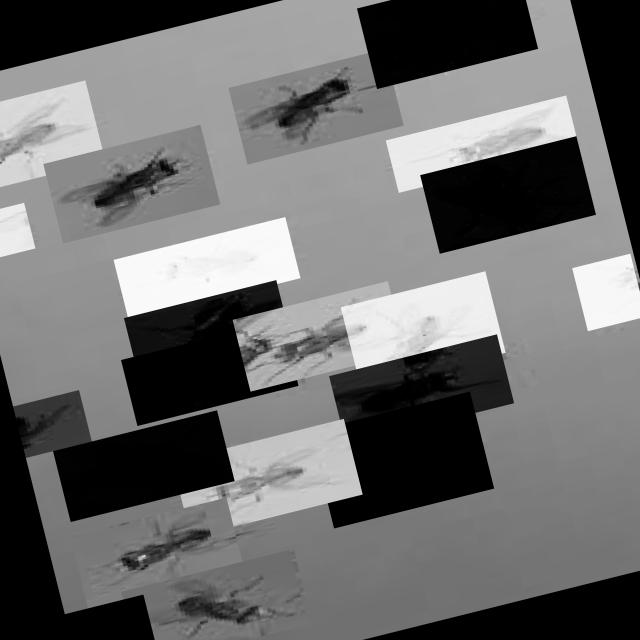fruit fly: (308, 391, 492, 528), (170, 418, 362, 537), (42, 124, 219, 243), (418, 136, 594, 254), (68, 497, 245, 614), (328, 334, 512, 445), (52, 410, 234, 522), (227, 49, 402, 164), (112, 217, 299, 321), (232, 280, 404, 392), (340, 271, 504, 388), (120, 320, 298, 426), (384, 96, 578, 192), (120, 548, 311, 640), (122, 280, 290, 380), (355, 0, 536, 89), (0, 80, 104, 197), (571, 253, 640, 331), (11, 390, 90, 458), (63, 594, 159, 640), (0, 202, 34, 262)
